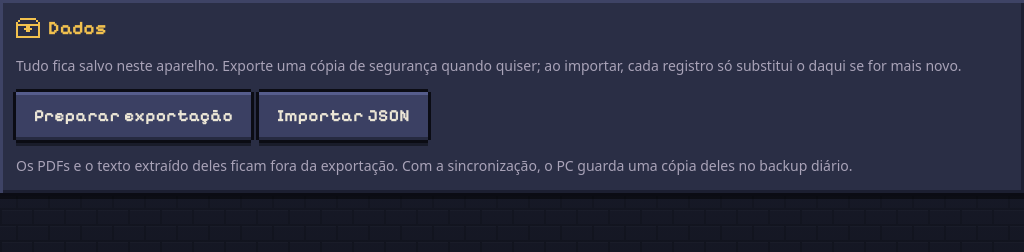
export in two steps and the media cap › where files can be shared the first tap only prepares; the second tap shares
Click the button "Preparar exportação". click: (134,116)
box: [16,92,251,140]
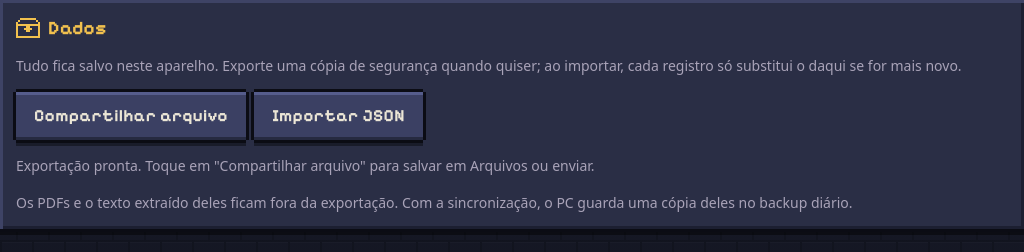
Expected: the text "Exportação pronta" is shown, [16,156,595,175]
Click the button "Compartilhar arquivo". click: (131,116)
box: [16,92,246,140]
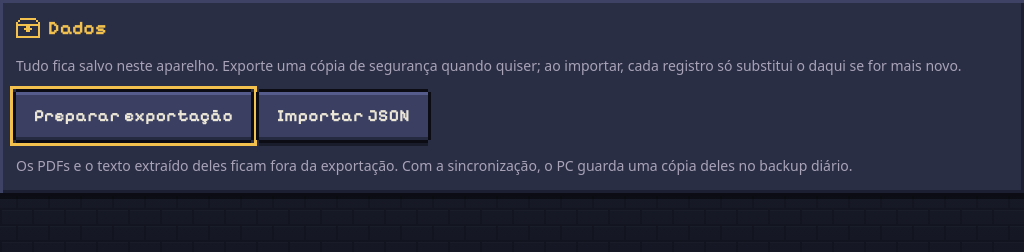
Expected: the button "Preparar exportação" is shown, [16,92,251,140]
